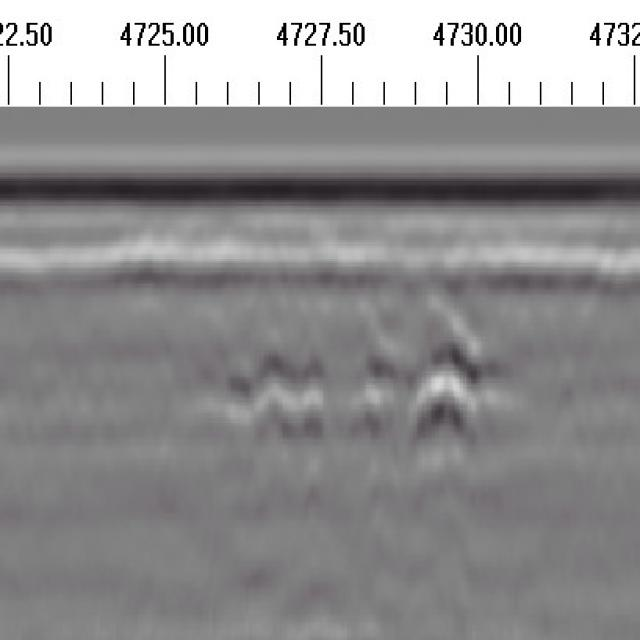loose: (228, 327, 502, 447)
